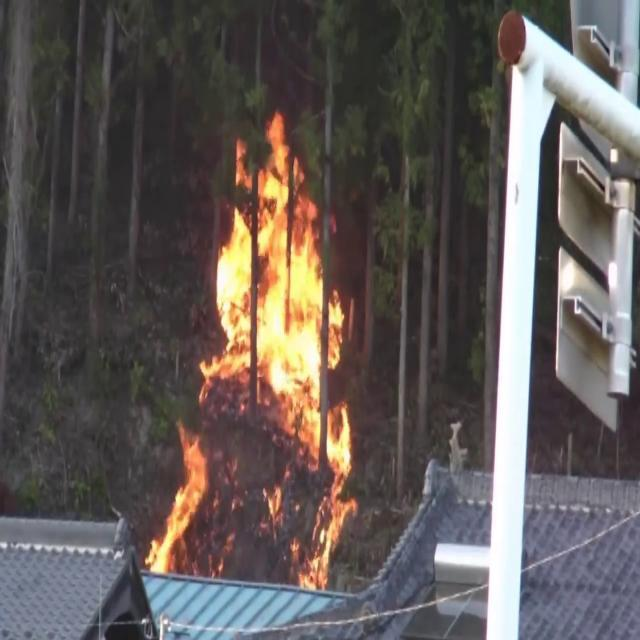Fire: (176, 100, 366, 575), (147, 422, 211, 572)
